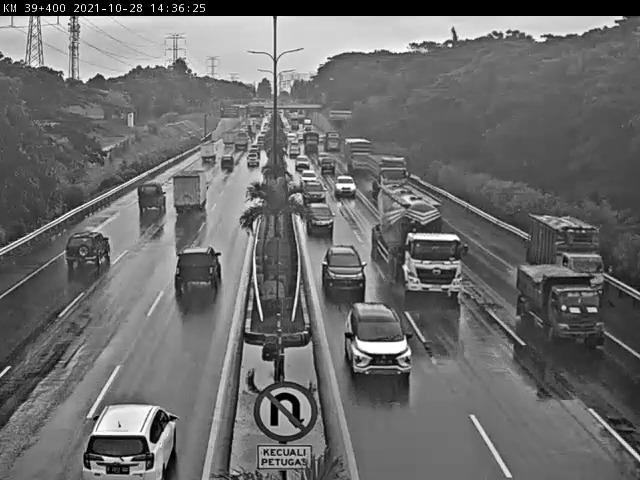big truck: (371, 194, 467, 301), (366, 150, 409, 199), (171, 171, 209, 213)
car: (83, 401, 181, 480), (345, 302, 414, 380), (174, 246, 223, 294), (322, 243, 365, 291), (65, 229, 112, 272), (133, 182, 167, 217), (305, 204, 336, 234), (303, 181, 325, 204), (334, 174, 356, 195), (299, 168, 318, 183), (245, 154, 261, 171), (220, 155, 235, 172)
small truck: (513, 262, 607, 350), (529, 214, 605, 302), (198, 141, 216, 162)
